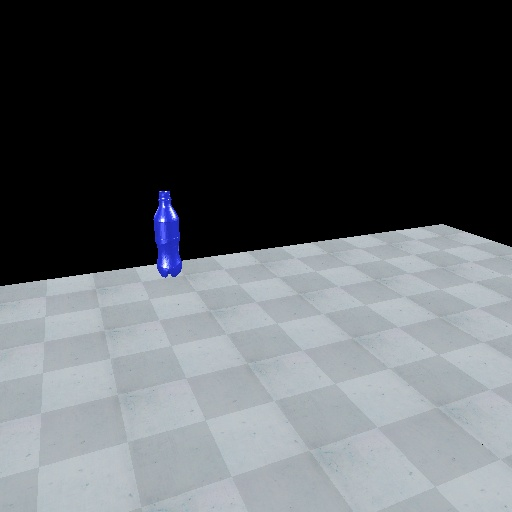bottle: (151, 187, 184, 280)
